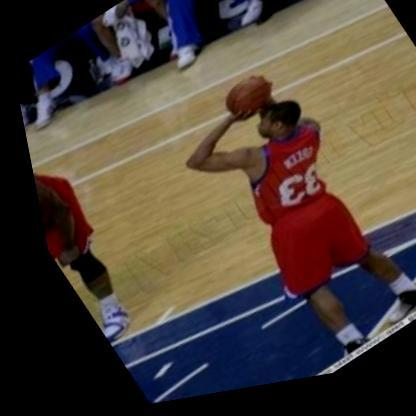basketball: (211, 76, 272, 133)
